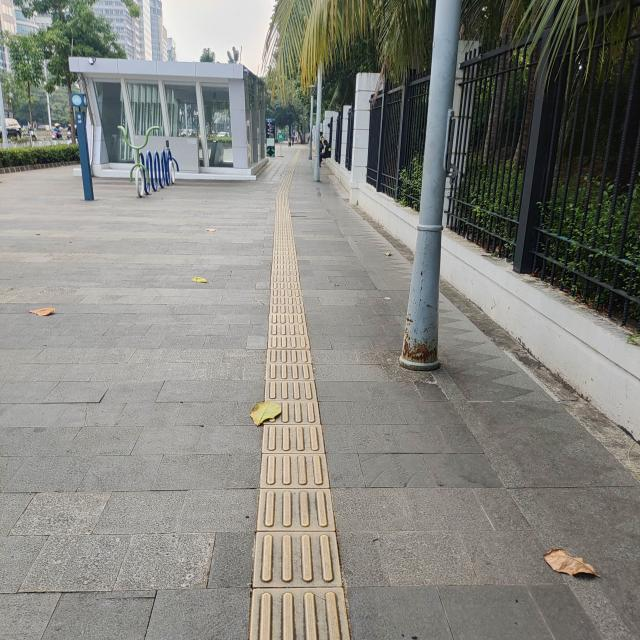lurus: (262, 199, 335, 640)
